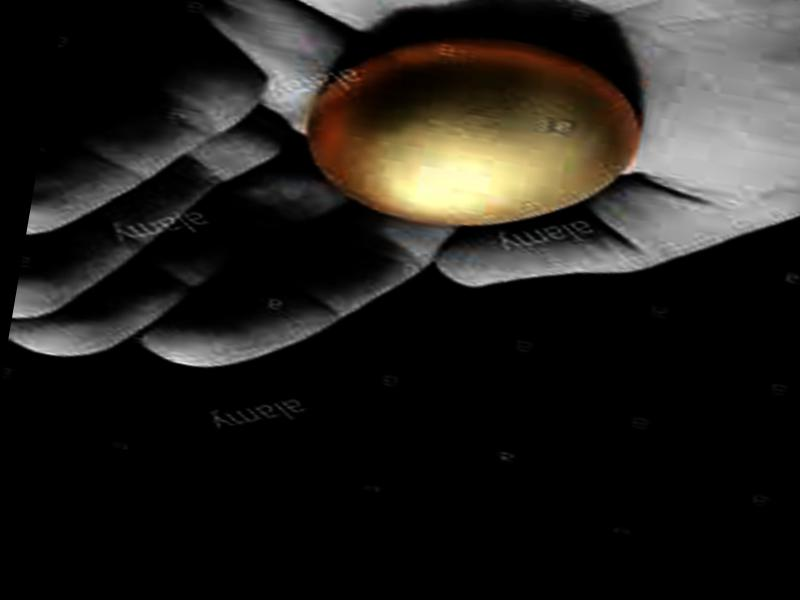Eggs: (294, 12, 646, 254)
